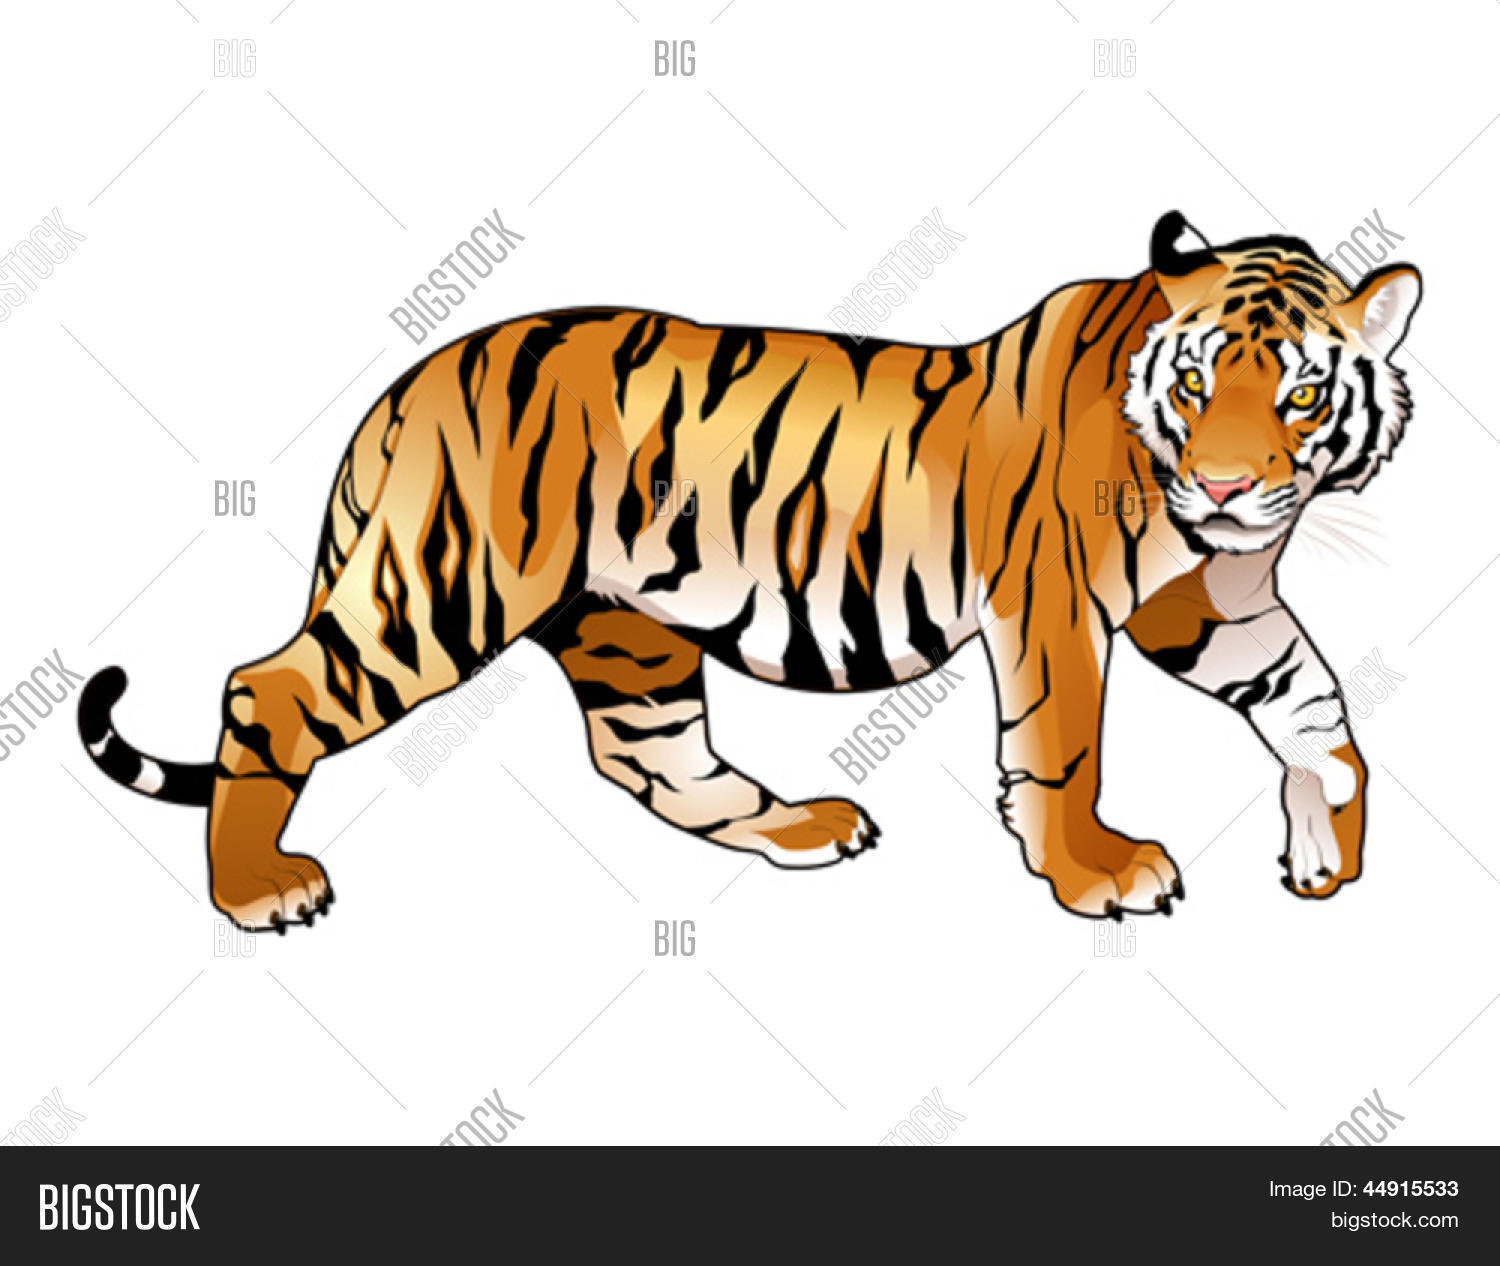Tigrew: (133, 217, 1492, 1075)
